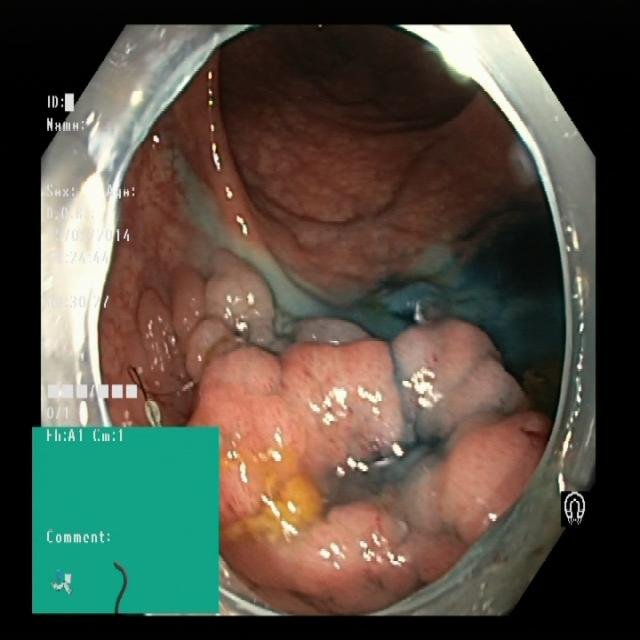dyed-lifted-polyps: (118, 244, 558, 601)
